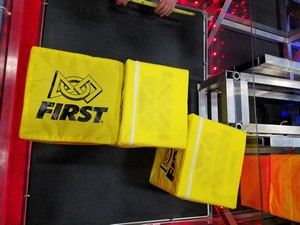cube: (20, 45, 122, 152)
